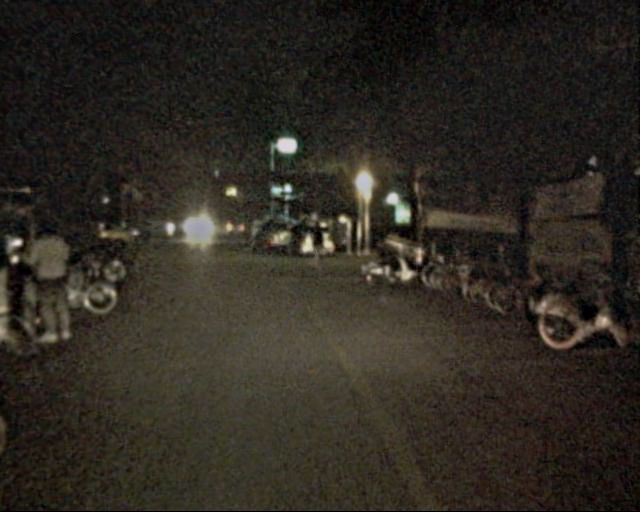person: (25, 212, 86, 348), (308, 222, 329, 270), (238, 220, 251, 251)
